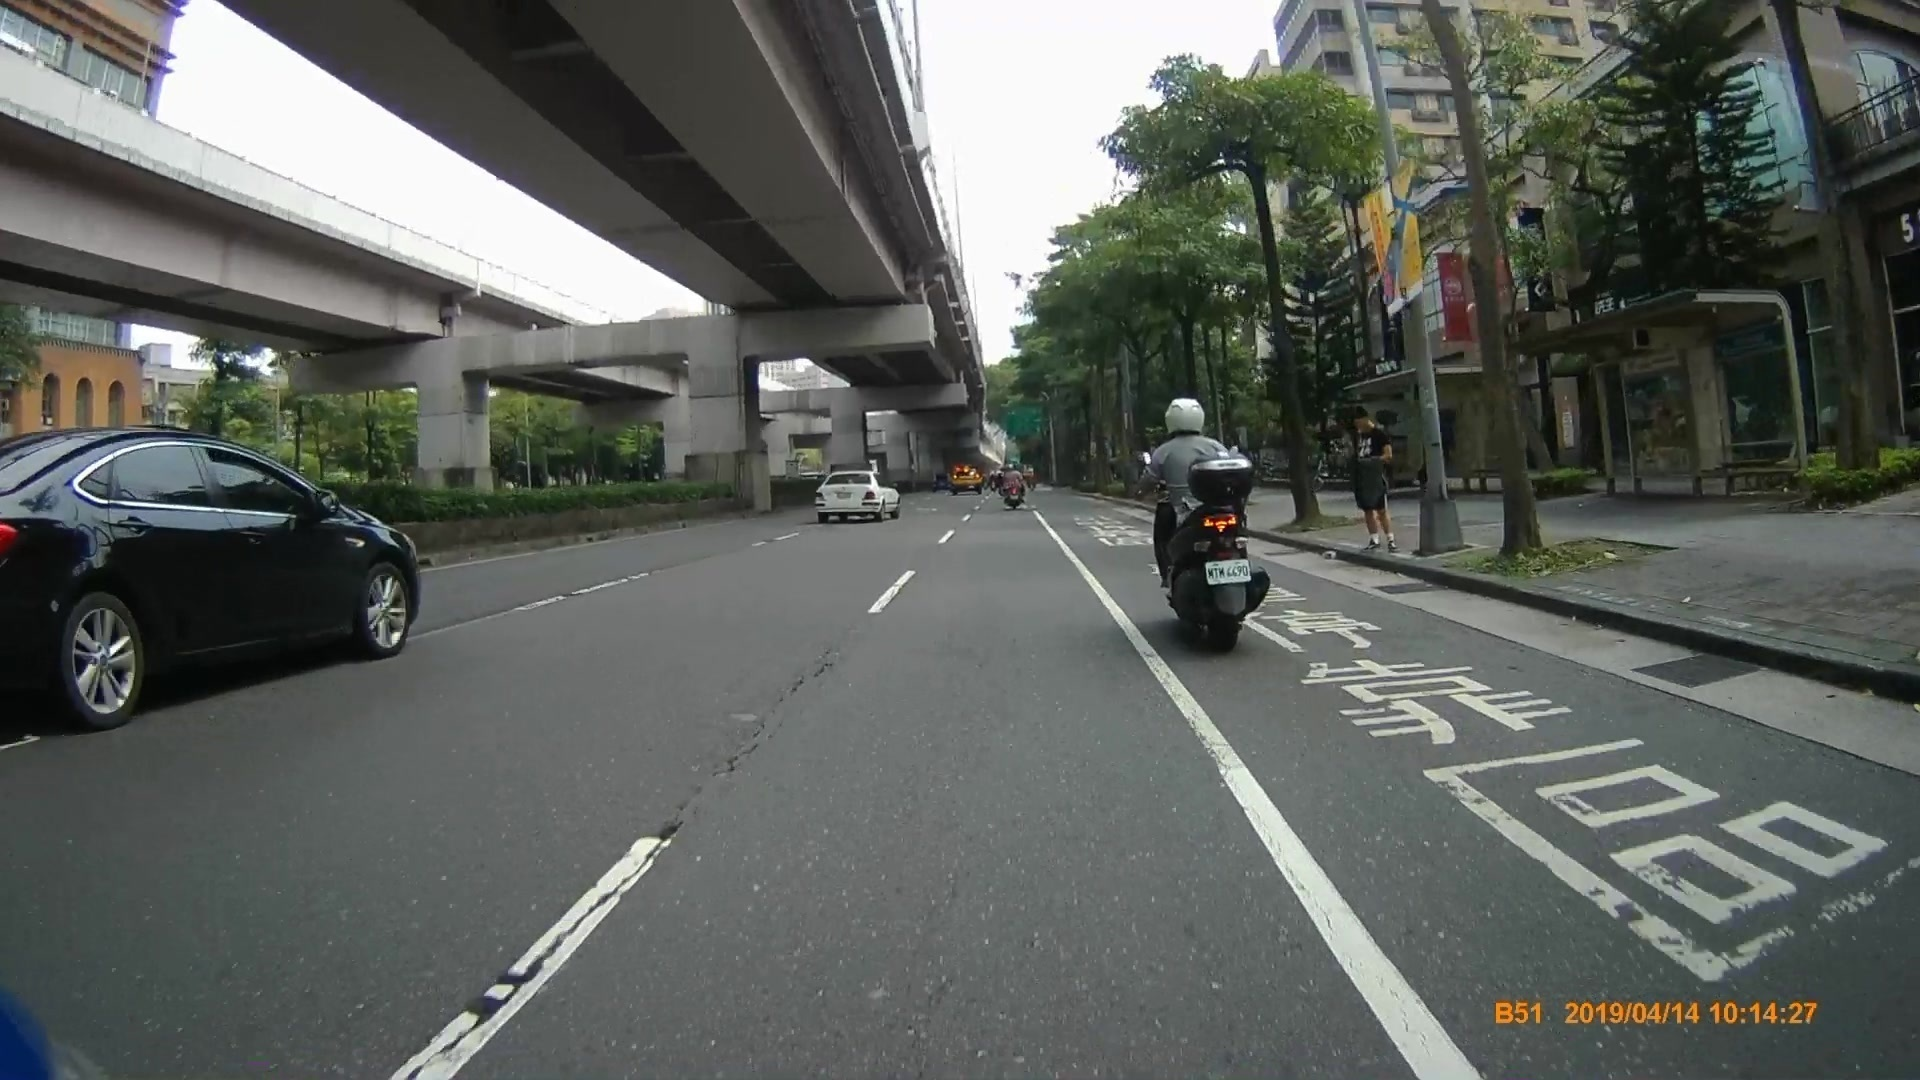License_plate: (1202, 559, 1251, 582)
